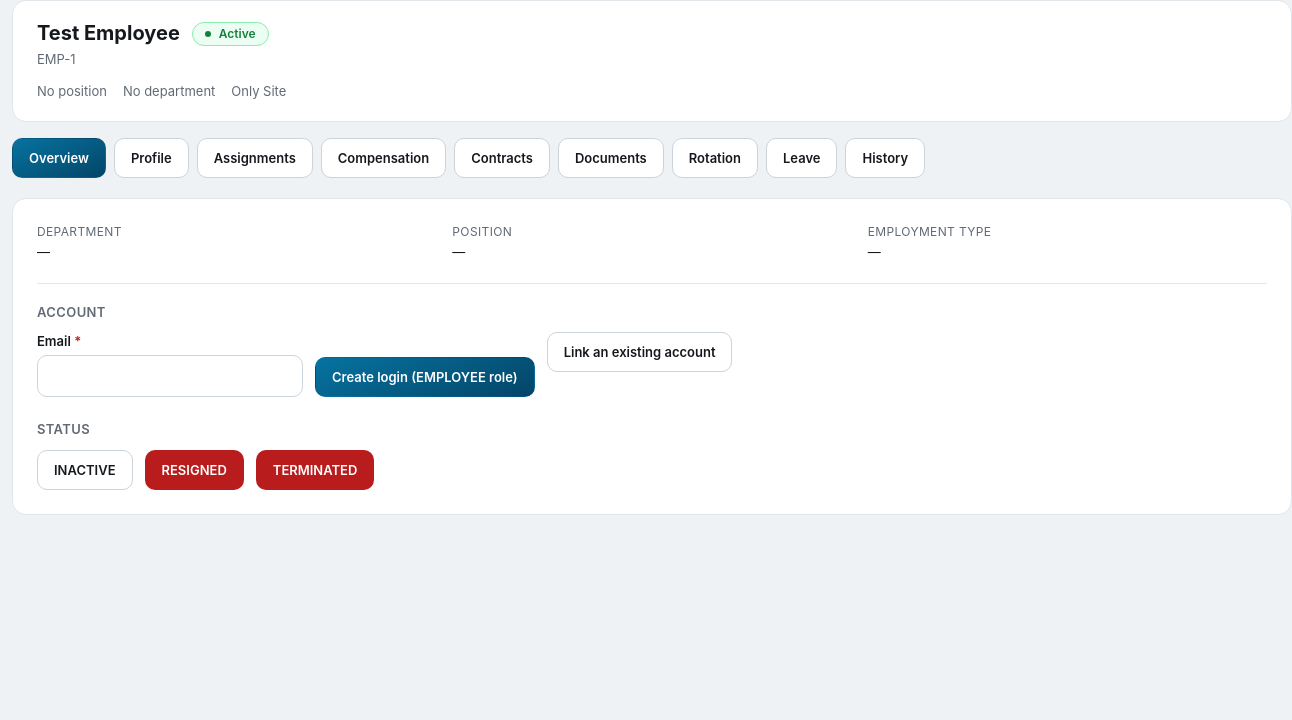
Test: EmployeeDetailPage transfer: target-site / active-catalog consistency › existing intra-site transfer remains functional (single-site actor, no site change)
Check: the heading "Test Employee" is shown, box [37, 21, 180, 46]
Click the button "Assignments" at (255, 158), box [197, 138, 313, 178]
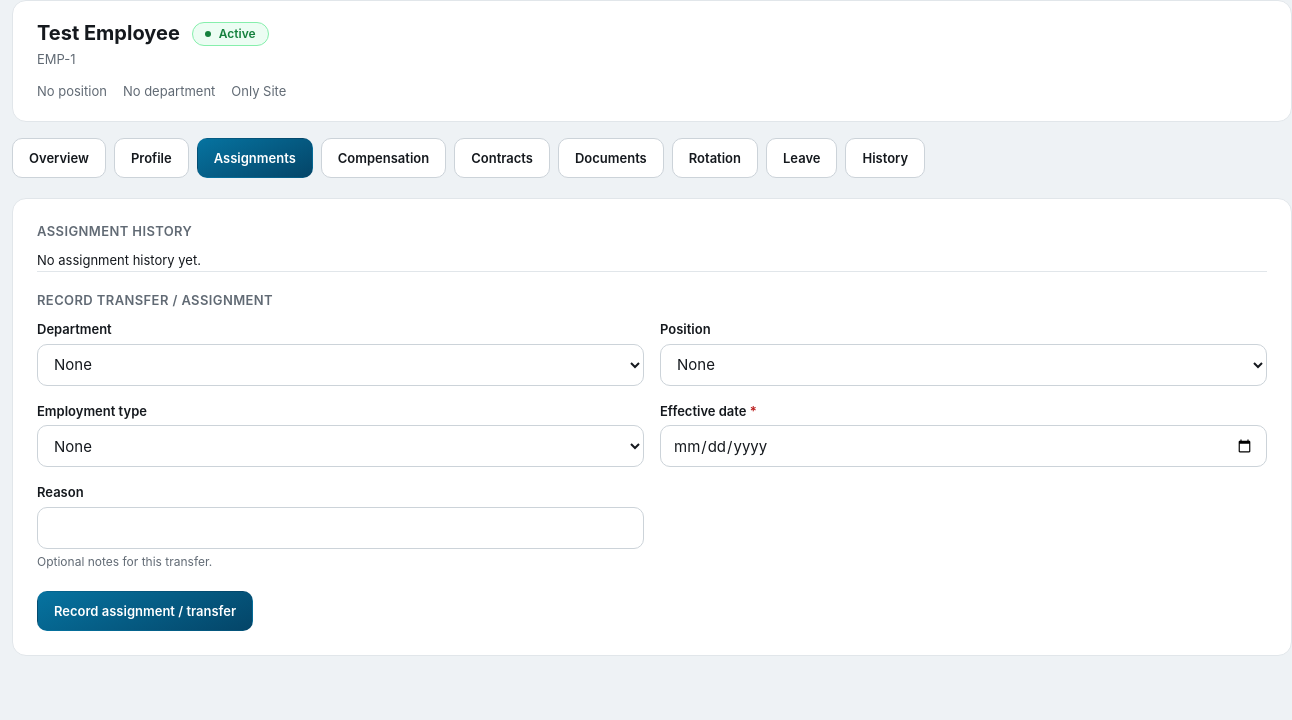
Check: the heading "Assignment history" is shown, box [37, 223, 192, 239]
Type "2026-01-01" into the date field labelled "Effective date *" at (964, 446), box [660, 425, 1267, 467]
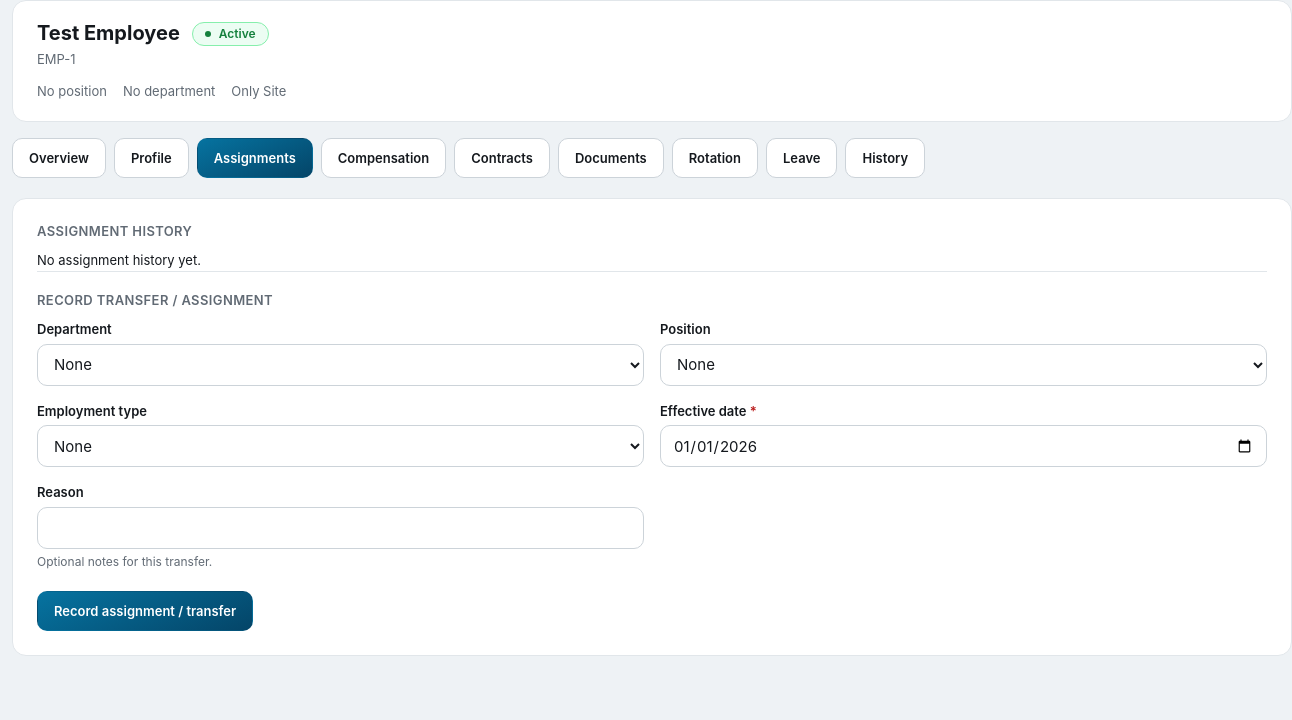
Click the button "Record assignment / transfer" at (145, 610), box [37, 590, 253, 630]
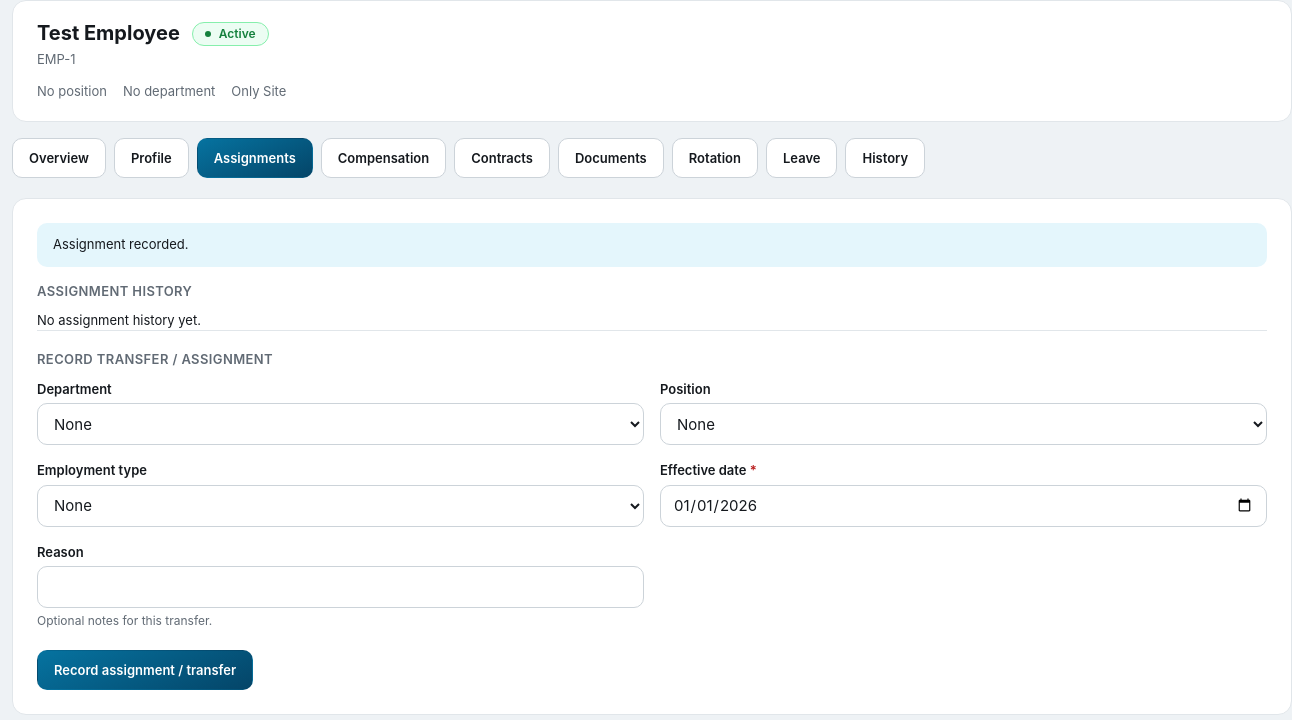
Check: the text "Assignment recorded." is shown, box [37, 223, 1267, 266]
